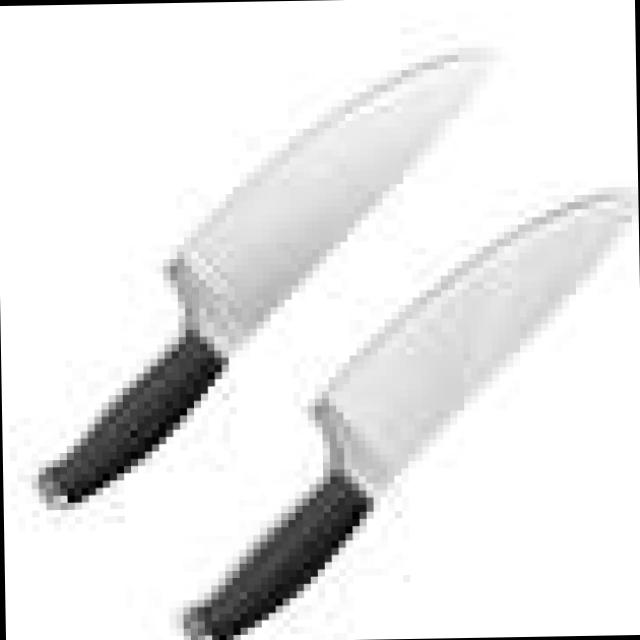Gun: (27, 44, 497, 517), (168, 193, 640, 640)
